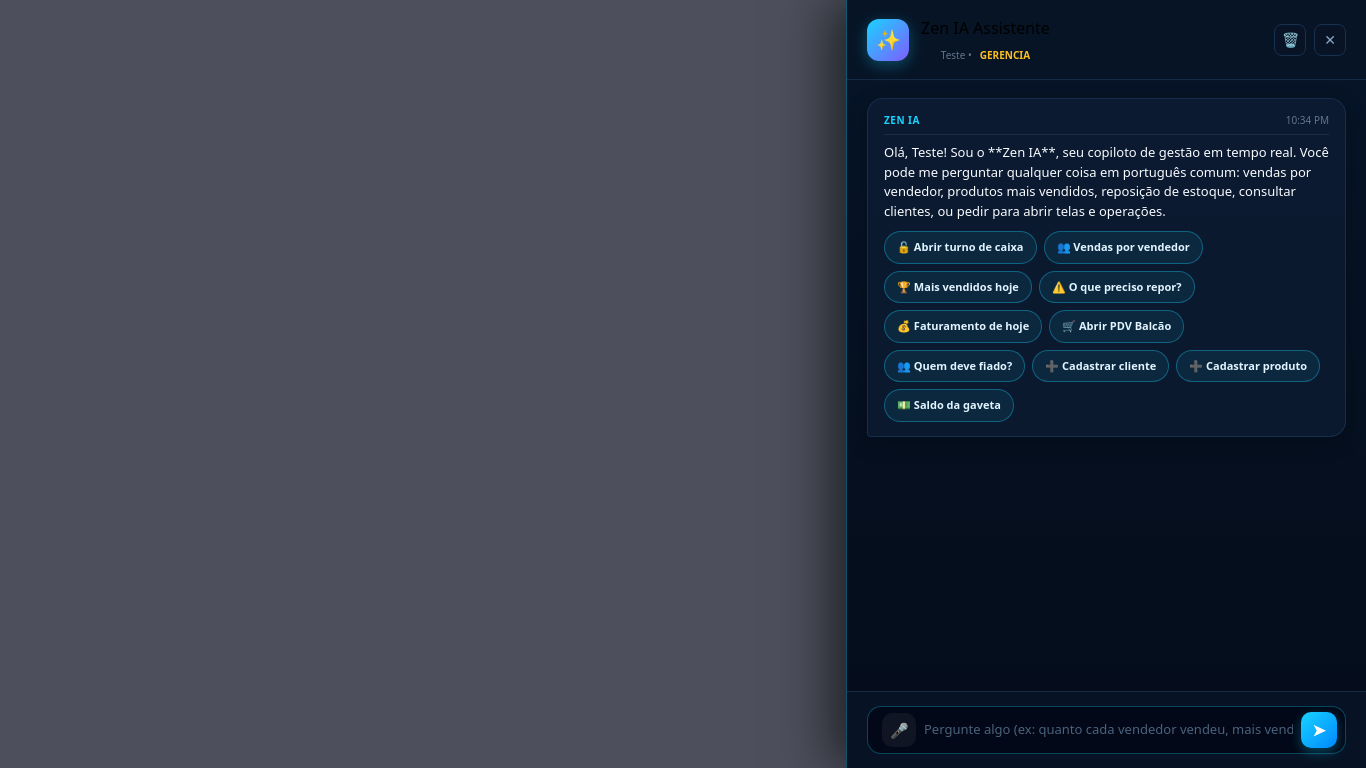
Test: cartão confirmado não permite gravar a mesma despesa novamente
Replace the text in the field with placeholder "Pergunte algo" with "lancar despesa aluguel 2000" at (1108, 730), box [924,712,1293,748]
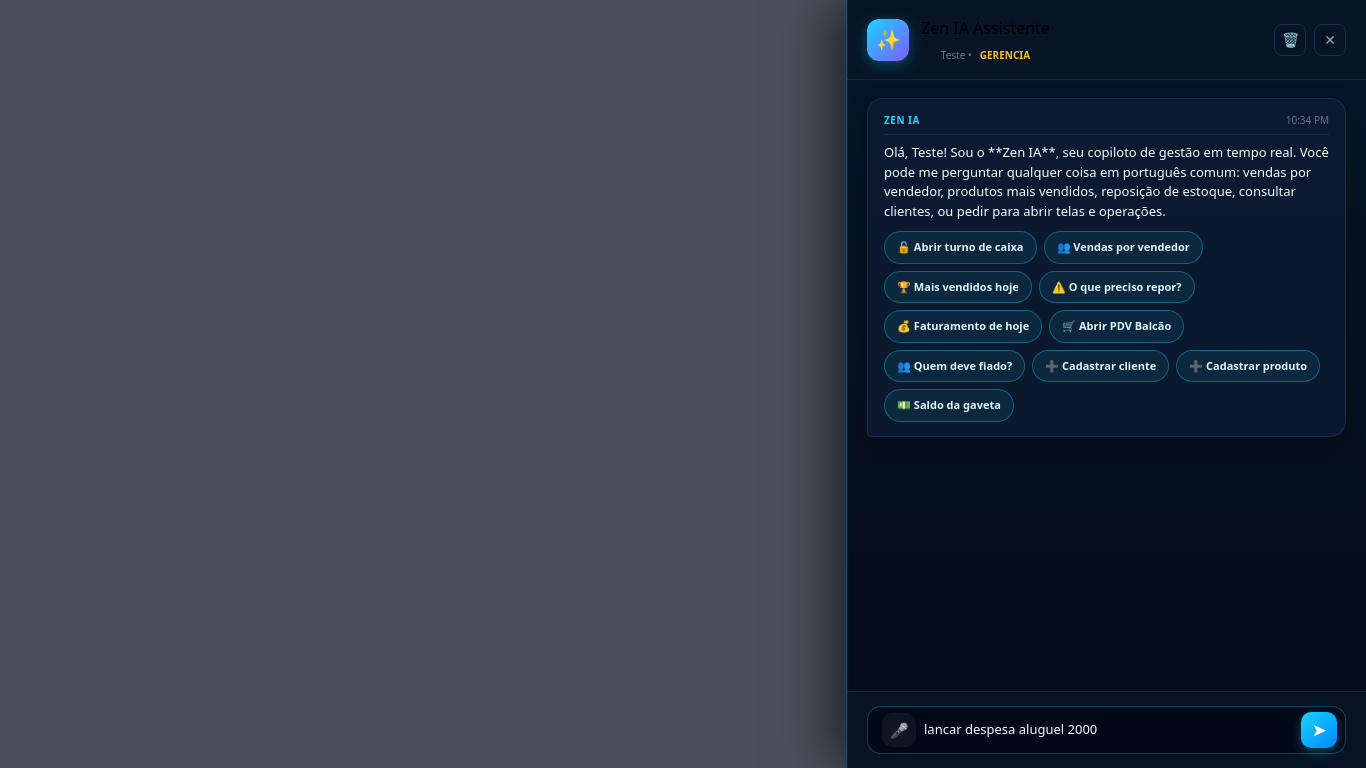
Click the button titled "Enviar pergunta" at (1319, 730), box [1301,712,1337,748]
(page scrolled)
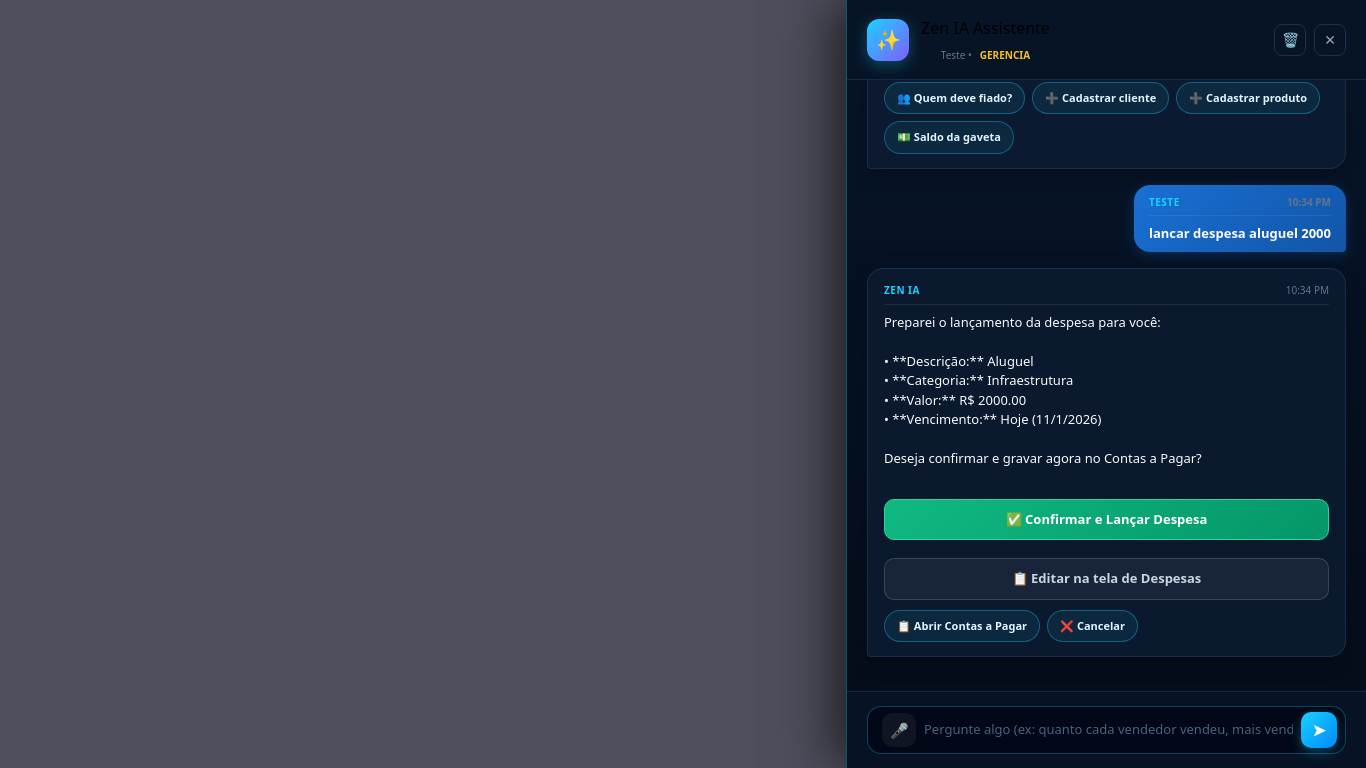
Click the button "✅ Confirmar e Lançar Despesa" at (1106, 519), box [884,499,1329,540]
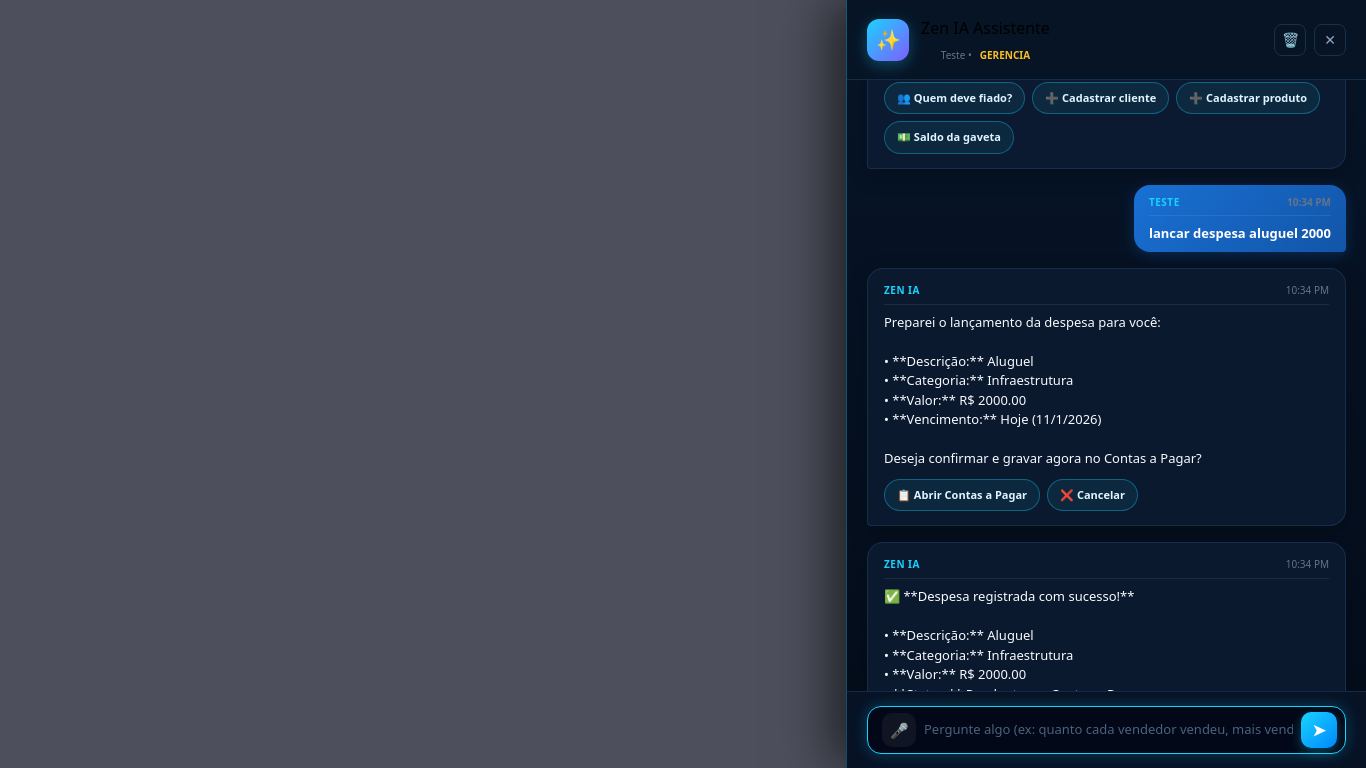
Result: the text "Despesa registrada com sucesso" is shown at [884,587,1294,691]
Result: the button "Confirmar e Lançar Despesa" is gone
